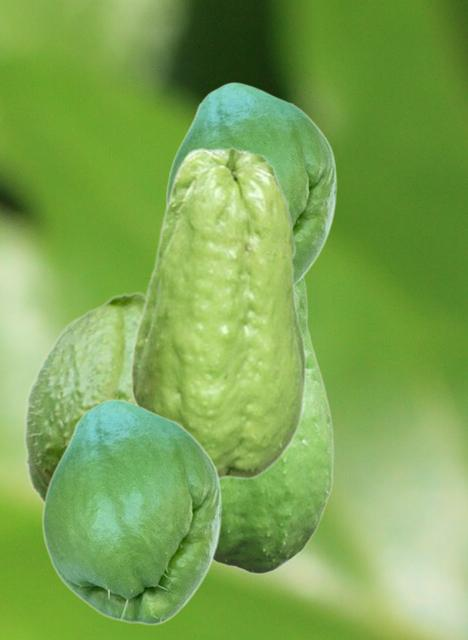sayote: (129, 146, 307, 482), (41, 399, 221, 625), (214, 278, 333, 573), (165, 82, 336, 286), (23, 290, 144, 504)
